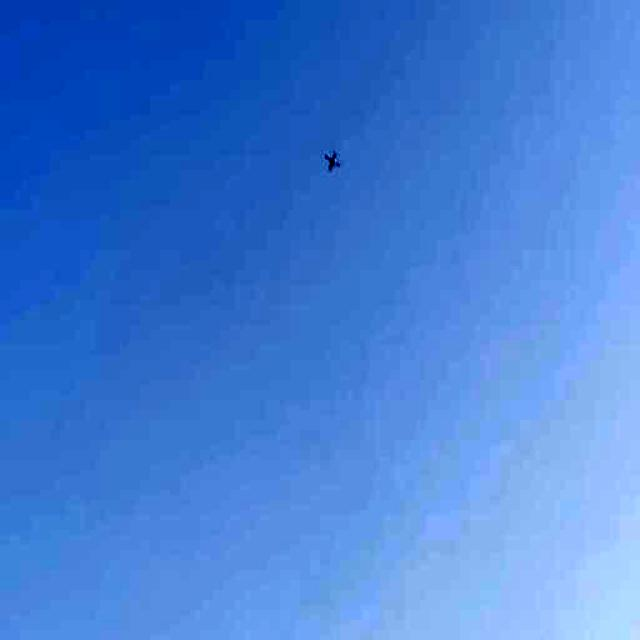bird: (324, 149, 344, 176)
